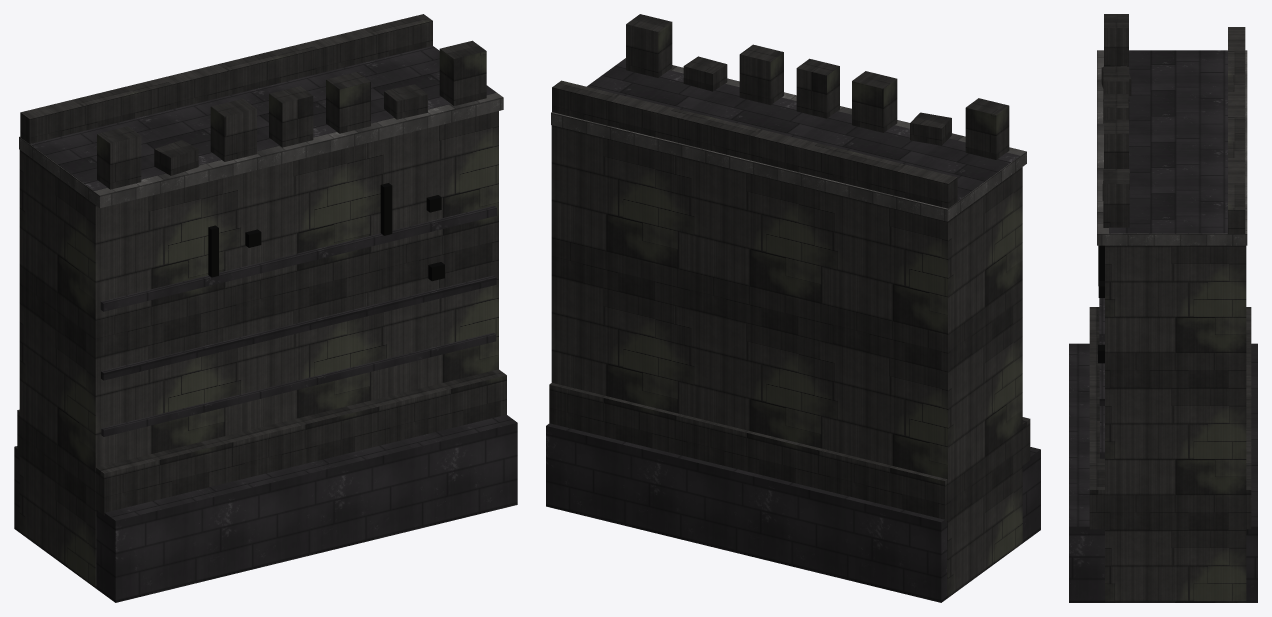
Rendered from TramoBajo.gltf.
The picture shows the model from 3 angles, left to right: view 1: azimuth 30°, elevation 25°; view 2: azimuth 150°, elevation 25°; view 3: azimuth 270°, elevation 25°; orthographic projection. The views are drawn at different scales.
Parts seen in each view (by area): view 1: TramoBajo; view 2: TramoBajo; view 3: TramoBajo.
Part boxes in pixels (x1,y1,x2,y2): TramoBajo: (14,14,517,602); TramoBajo: (546,14,1040,602); TramoBajo: (1069,14,1257,602).
Bounding box in the file's own units: 12.47 × 13.09 × 5.42.
Materials: 4 (3 with a texture image).
